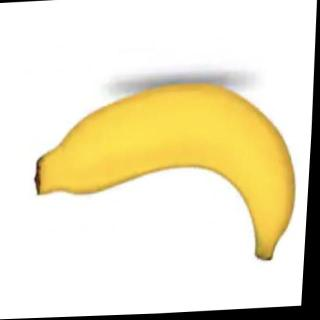banana: (26, 74, 306, 277)
